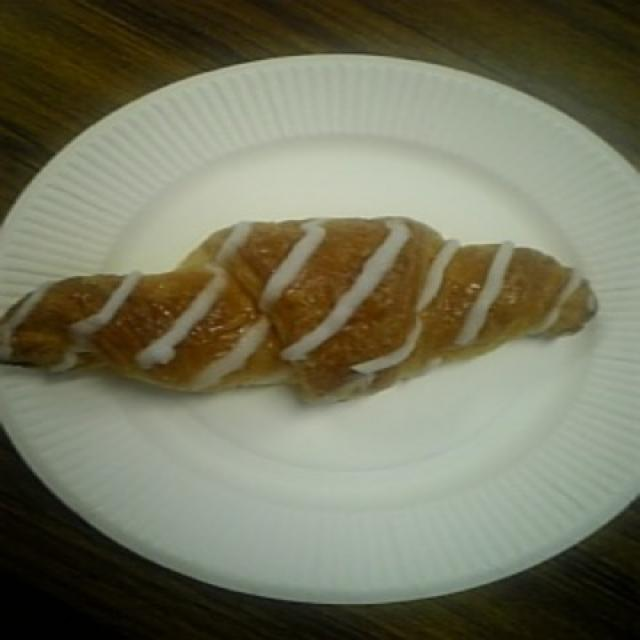面包点心: (0, 48, 640, 608)
